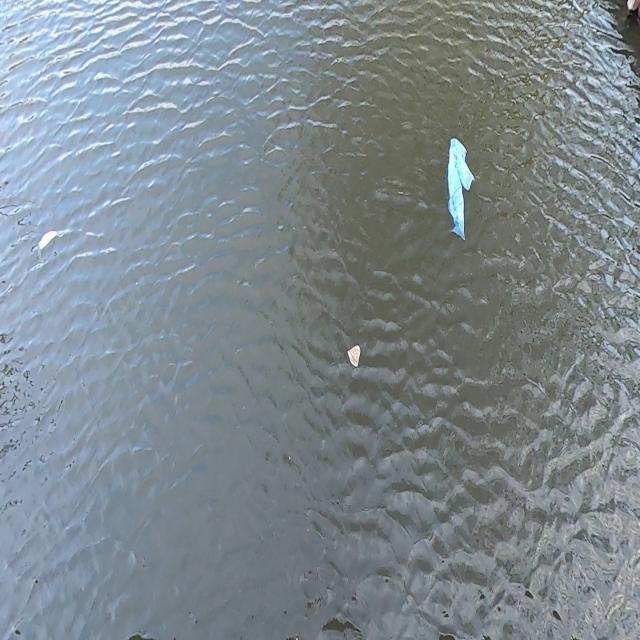Non plastique: (35, 222, 64, 269), (345, 343, 364, 371)
Sac plastique: (446, 130, 476, 247)
